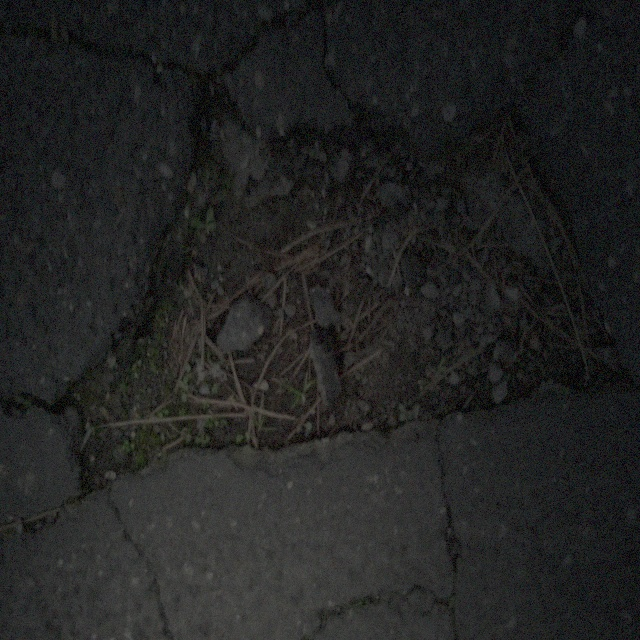pothole: (62, 61, 636, 503)
